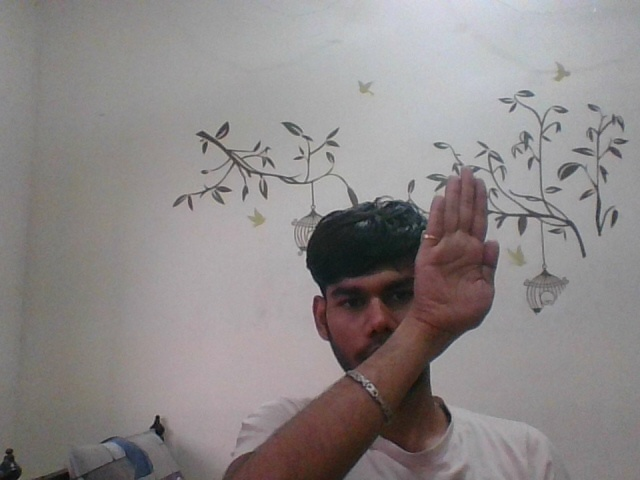Hello: (401, 164, 510, 333)
